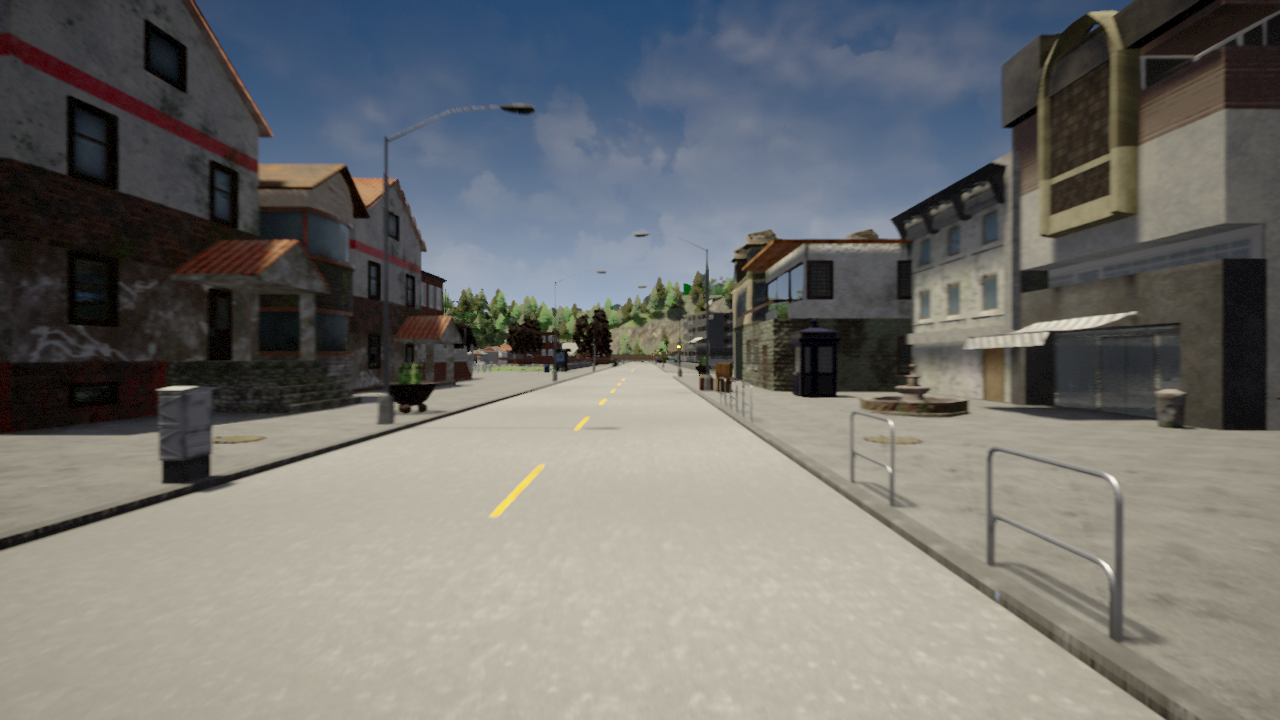yellow: (675, 342, 681, 353)
